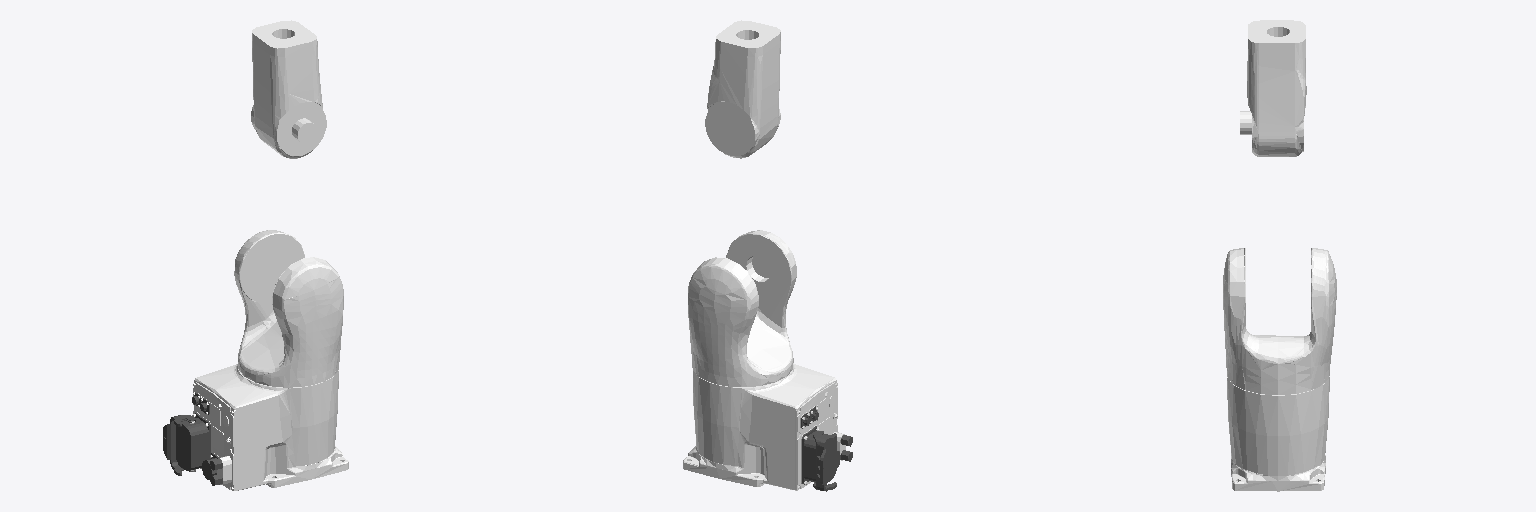
robot.urdf — VS060A1_AV6_NNN_NNN:
<?xml version="1.0"?>
<robot name="VS060A1_AV6_NNN_NNN"
       xmlns:xi="http://www.w3.org/2001/XInclude"
       xmlns:gazebo="http://playerstage.sourceforge.net/gazebo/xmlschema/#gz"
       xmlns:model="http://playerstage.sourceforge.net/gazebo/xmlschema/#model"
       xmlns:sensor="http://playerstage.sourceforge.net/gazebo/xmlschema/#sensor"
       xmlns:body="http://playerstage.sourceforge.net/gazebo/xmlschema/#body"
       xmlns:geom="http://playerstage.sourceforge.net/gazebo/xmlschema/#geom"
       xmlns:joint="http://playerstage.sourceforge.net/gazebo/xmlschema/#joint"
       xmlns:interface="http://playerstage.sourceforge.net/gazebo/xmlschema/#interface"
       xmlns:rendering="http://playerstage.sourceforge.net/gazebo/xmlschema/#rendering"
       xmlns:renderable="http://playerstage.sourceforge.net/gazebo/xmlschema/#renderable"
       xmlns:controller="http://playerstage.sourceforge.net/gazebo/xmlschema/#controller"
       xmlns:physics="http://playerstage.sourceforge.net/gazebo/xmlschema/#physics">
  <link name="BASE">
    <visual>
      <origin xyz="0 0 0" rpy="0 -0 0"/>
      <geometry>
        <mesh filename="package://vs060/model/meshes/BASE_mesh.dae"/>
      </geometry>
    </visual>
    <collision>
      <origin xyz="0 0 0" rpy="0 -0 0"/>
      <geometry>
        <mesh filename="package://vs060/model/meshes/BASE_mesh.dae"/>
      </geometry>
    </collision>
    <inertial>
      <mass value="1000" />
      <origin xyz="0 0 0" rpy="0 -0 0"/>
      <inertia ixx="20" ixy="0" ixz="0" iyy="20" iyz="0" izz="20"/>
    </inertial>
  </link>
  <link name="J1">
    <visual>
      <origin xyz="0 4.04121e-17 0.182" rpy="0 -0 0"/>
      <geometry>
        <mesh filename="package://vs060/model/meshes/J1_mesh.dae"/>
      </geometry>
    </visual>
    <collision>
      <origin xyz="0 4.04121e-17 0.182" rpy="0 -0 0"/>
      <geometry>
        <mesh filename="package://vs060/model/meshes/J1_mesh.dae"/>
      </geometry>
    </collision>
    <inertial>
      <mass value="4.327" />
      <origin xyz="0.013885 -0.005997 0.043991" rpy="0 -0 0"/>
      <inertia ixx="0.025492" ixy="0" ixz="0" iyy="0.032502" iyz="-3.26672e-18" izz="0.01779"/>
    </inertial>
  </link>
  <link name="J2">
    <visual>
      <origin xyz="0 3.61933e-17 0.163" rpy="0 -0 0"/>
      <geometry>
        <mesh filename="package://vs060/model/meshes/J2_mesh.dae"/>
      </geometry>
    </visual>
    <collision>
      <origin xyz="0 3.61933e-17 0.163" rpy="0 -0 0"/>
      <geometry>
        <mesh filename="package://vs060/model/meshes/J2_mesh.dae"/>
      </geometry>
    </collision>
    <inertial>
      <mass value="9.475" />
      <origin xyz="0.015837 -0.073696 0.010087" rpy="0 -0 0"/>
      <inertia ixx="0.108024" ixy="0" ixz="0" iyy="0.025579" iyz="1.93827e-17" izz="0.112871"/>
    </inertial>
  </link>
  <link name="J3">
    <visual>
      <origin xyz="0 6.77236e-17 0.305" rpy="0 -0 0"/>
      <geometry>
        <mesh filename="package://vs060/model/meshes/J3_mesh.dae"/>
      </geometry>
    </visual>
    <collision>
      <origin xyz="0 6.77236e-17 0.305" rpy="0 -0 0"/>
      <geometry>
        <mesh filename="package://vs060/model/meshes/J3_mesh.dae"/>
      </geometry>
    </collision>
    <inertial>
      <mass value="4.097" />
      <origin xyz="0.011544 -0.057408 0.006203" rpy="0 -0 0"/>
      <inertia ixx="0.015999" ixy="0" ixz="0" iyy="0.00638" iyz="2.33191e-18" izz="0.016882"/>
    </inertial>
  </link>
  <link name="J4">
    <visual>
      <origin xyz="-0.01 3.66374e-17 0.165" rpy="0 -0 0"/>
      <geometry>
        <mesh filename="package://vs060/model/meshes/J4_mesh.dae"/>
      </geometry>
    </visual>
    <collision>
      <origin xyz="-0.01 3.66374e-17 0.165" rpy="0 -0 0"/>
      <geometry>
        <mesh filename="package://vs060/model/meshes/J4_mesh.dae"/>
      </geometry>
    </collision>
    <inertial>
      <mass value="1.779" />
      <origin xyz="0.003998 -0.004975 0.052919" rpy="0 -0 0"/>
      <inertia ixx="0.005106" ixy="0" ixz="0" iyy="0.005266" iyz="-5.87308e-19" izz="0.002621"/>
    </inertial>
  </link>
  <link name="J5">
    <visual>
      <origin xyz="0 2.9976e-17 0.135" rpy="0 -0 0"/>
      <geometry>
        <mesh filename="package://vs060/model/meshes/J5_mesh.dae"/>
      </geometry>
    </visual>
    <collision>
      <origin xyz="0 2.9976e-17 0.135" rpy="0 -0 0"/>
      <geometry>
        <mesh filename="package://vs060/model/meshes/J5_mesh.dae"/>
      </geometry>
    </collision>
    <inertial>
      <mass value="1.211" />
      <origin xyz="0.011902 -0.004739 0.010398" rpy="0 -0 0"/>
      <inertia ixx="0.001093" ixy="0" ixz="0" iyy="0.001629" iyz="-3.10862e-21" izz="0.001615"/>
    </inertial>
  </link>
  <link name="Flange">
    <visual>
      <origin xyz="0 1.55431e-17 0.07" rpy="0 -0 0"/>
      <geometry>
        <mesh filename="package://vs060/model/meshes/Flange_mesh.dae"/>
      </geometry>
    </visual>
    <collision>
      <origin xyz="0 1.55431e-17 0.07" rpy="0 -0 0"/>
      <geometry>
        <mesh filename="package://vs060/model/meshes/Flange_mesh.dae"/>
      </geometry>
    </collision>
    <inertial>
      <mass value="4.154" />
      <origin xyz="-0.000401015 0.0770342 0.0962886" rpy="0 -0 0"/>
      <inertia ixx="0.0216473" ixy="-0.000147026" ixz="-0.00011778" iyy="0.0346876" iyz="0.00159321" izz="0.022927"/>
    </inertial>
  </link>
  <transmission name="j1" type="pr2_mechanism_model/SimpleTransmission">
    <actuator name="j1_motor"/>
    <joint name="j1"/>
    <mechanicalReduction>1</mechanicalReduction>
  </transmission>
  <joint name="j1" type="revolute">
    <parent link="BASE"/>
    <child  link="J1"/>
    <origin xyz="0 4.04121e-17 0.182" rpy="0 -0 0 "/>
    <axis   xyz="0 0 1"/>
    <!-- <limit lower="-2.96706" upper="2.96706" effort="19.7336" velocity="0.5" /> -->
<limit lower="-2.96706" upper="2.96706" effort="19.7336" velocity="0.5" />
  </joint>
  <transmission name="j2" type="pr2_mechanism_model/SimpleTransmission">
    <actuator name="j2_motor"/>
    <joint name="j2"/>
    <mechanicalReduction>1</mechanicalReduction>
  </transmission>
  <joint name="j2" type="revolute">
    <parent link="J1"/>
    <child  link="J2"/>
    <origin xyz="0 3.61933e-17 0.163" rpy="0 -0 0 "/>
    <axis   xyz="0 1 0"/>
    <limit lower="-2.0944" upper="2.0944" effort="16.8447" velocity="0.5" />
  </joint>
  <transmission name="j3" type="pr2_mechanism_model/SimpleTransmission">
    <actuator name="j3_motor"/>
    <joint name="j3"/>
    <mechanicalReduction>1</mechanicalReduction>
  </transmission>
  <joint name="j3" type="revolute">
    <parent link="J2"/>
    <child  link="J3"/>
    <origin xyz="0 6.77236e-17 0.305" rpy="0 -0 0 "/>
    <axis   xyz="0 1 0"/>
    <limit lower="-2.18166" upper="2.70526" effort="20.7089" velocity="0.5" />
  </joint>
  <transmission name="j4" type="pr2_mechanism_model/SimpleTransmission">
    <actuator name="j4_motor"/>
    <joint name="j4"/>
    <mechanicalReduction>1</mechanicalReduction>
  </transmission>
  <joint name="j4" type="revolute">
    <parent link="J3"/>
    <child  link="J4"/>
    <origin xyz="-0.01 3.66374e-17 0.165" rpy="0 -0 0 "/>
    <axis   xyz="0 0 1"/>
    <limit lower="-4.71239" upper="4.71239" effort="20.9665" velocity="0.5" />
  </joint>
  <transmission name="j5" type="pr2_mechanism_model/SimpleTransmission">
    <actuator name="j5_motor"/>
    <joint name="j5"/>
    <mechanicalReduction>1</mechanicalReduction>
  </transmission>
  <joint name="j5" type="revolute">
    <parent link="J4"/>
    <child  link="J5"/>
    <origin xyz="0 2.9976e-17 0.135" rpy="0 -0 0 "/>
    <axis   xyz="0 1 0"/>
    <limit lower="-2.0944" upper="2.0944" effort="23.7229" velocity="0.5" />
  </joint>
  <transmission name="flange" type="pr2_mechanism_model/SimpleTransmission">
    <actuator name="flange_motor"/>
    <joint name="flange"/>
    <mechanicalReduction>1</mechanicalReduction>
  </transmission>
  <joint name="flange" type="revolute">
    <parent link="J5"/>
    <child  link="Flange"/>
    <origin xyz="0 1.55431e-17 0.07" rpy="0 -0 0 "/>
    <axis   xyz="0 0 1"/>
    <limit lower="-6.28319" upper="6.28319" effort="33.5103" velocity="0.5" />
  </joint>
</robot>

--- Render facts (derived) ---
3 views of the same robot in one strip: view 1: azimuth 30°, elevation 25°; view 2: azimuth 150°, elevation 25°; view 3: azimuth 270°, elevation 25° (orthographic).
Model VS060A1_AV6_NNN_NNN with 7 links and 6 joints (6 revolute), rooted at BASE, posed every joint at zero.
Links seen in each view (by area): view 1: BASE, J1, J3; view 2: BASE, J1, J3; view 3: BASE, J1, J3.
Link boxes in pixels (x1,y1,x2,y2): BASE: (163, 364, 348, 490); J1: (234, 230, 343, 387); J3: (251, 20, 326, 158); BASE: (683, 363, 852, 491); J1: (688, 230, 796, 386); J3: (705, 20, 780, 158); BASE: (1227, 376, 1329, 491); J1: (1223, 248, 1336, 394); J3: (1240, 20, 1306, 156).
Size in the robot's own frame: 0.2917 by 0.1925 by 0.8145 metres.
Meshes: 7 distinct files referenced, 3 mesh visuals loaded (3 Collada DAE); not drawn: 4 (file found but could not be loaded).